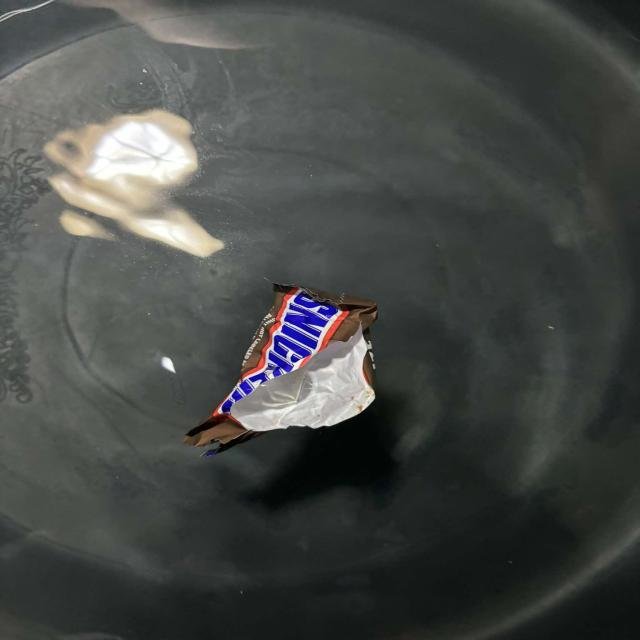Plastic Wrapper: (185, 283, 378, 456)
